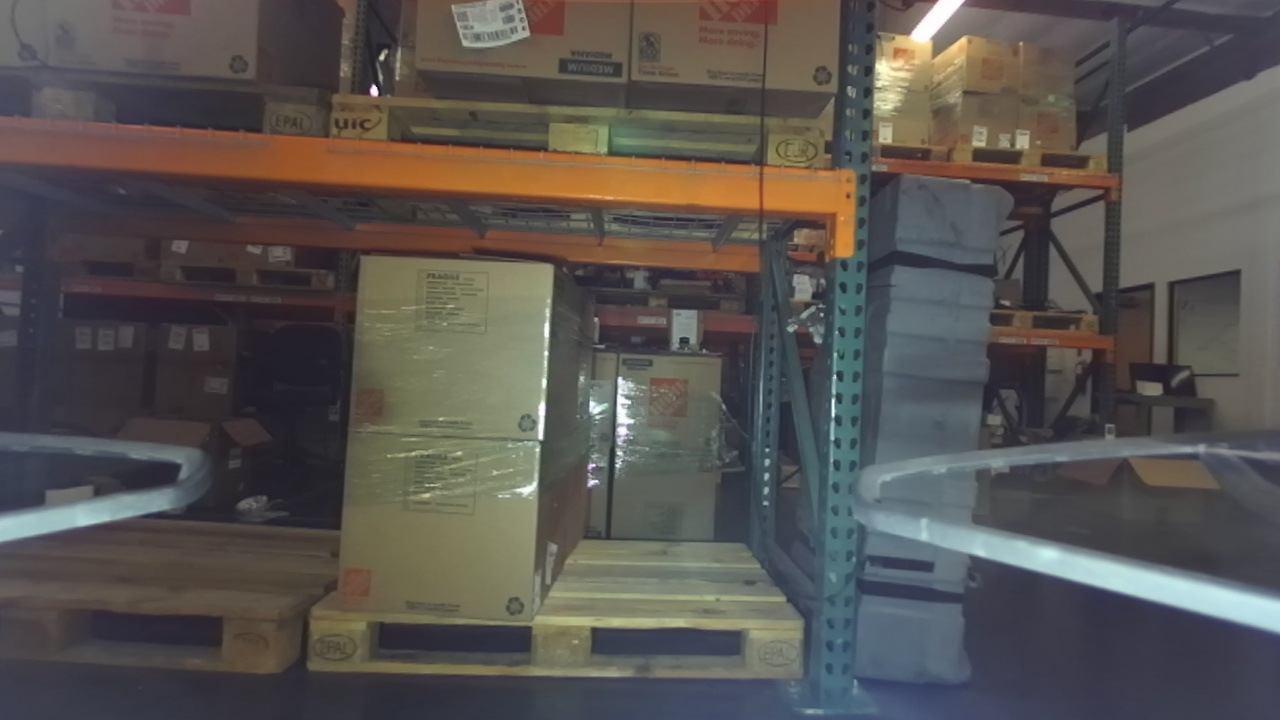box: (321, 422, 583, 634), (328, 249, 588, 458)
